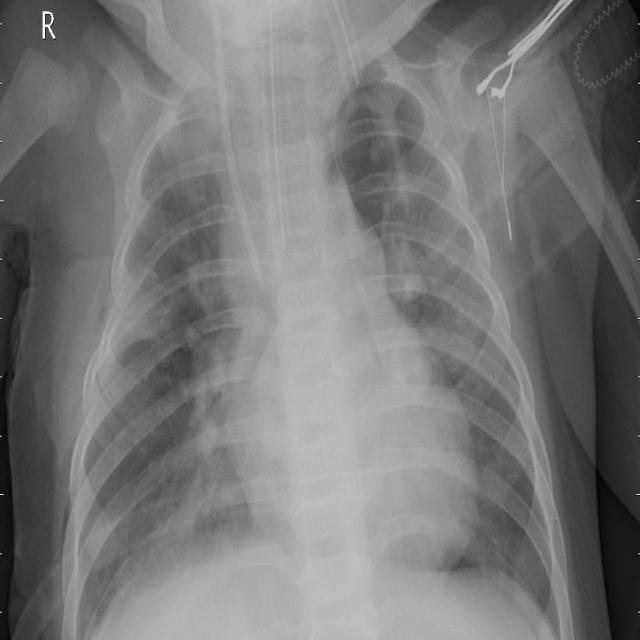low-pneumonia: (87, 462, 233, 583), (186, 264, 242, 457), (377, 219, 456, 337), (152, 68, 217, 196)
